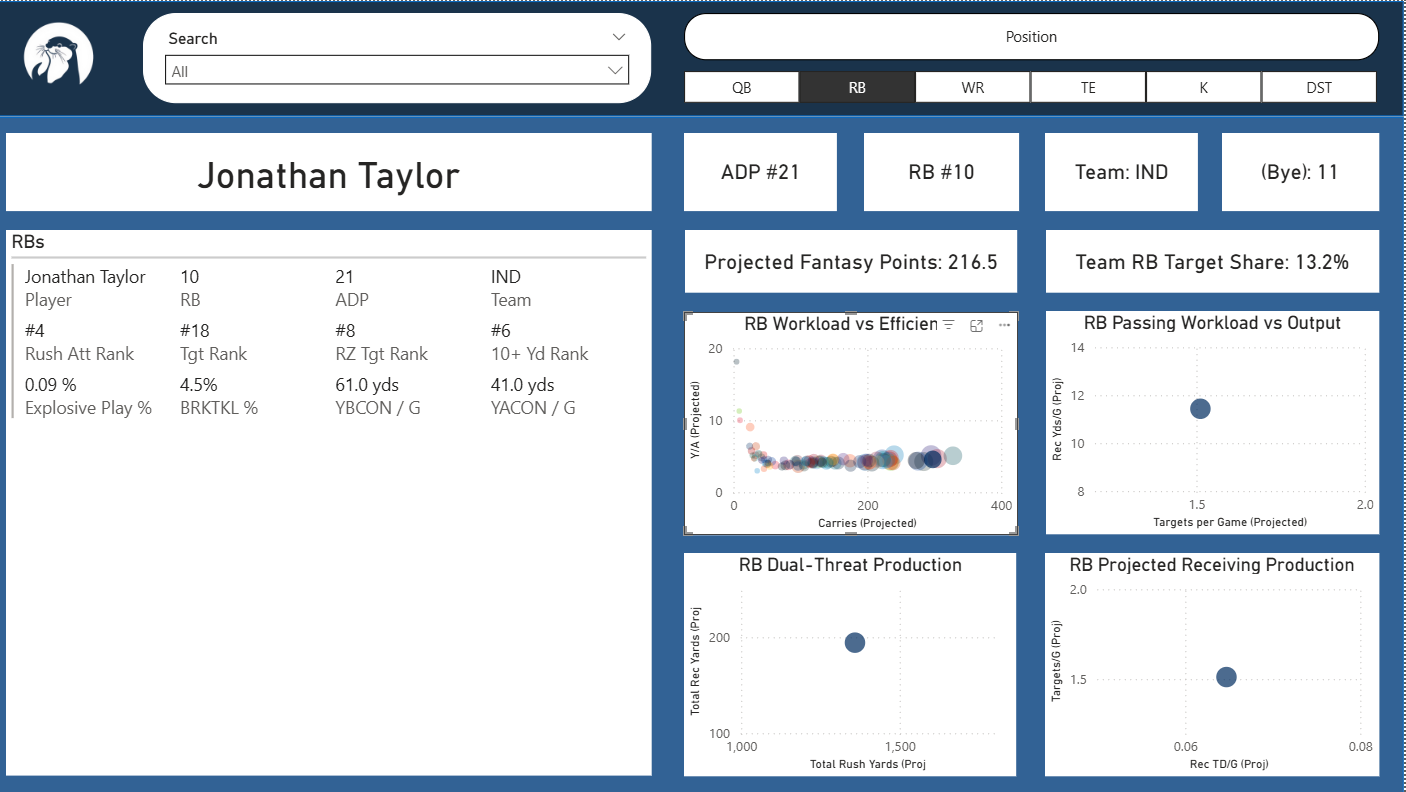

This screenshot's page, from the dashboard's own definition file:
{"tool":"powerbi","page":{"name":"RB","canvas":[1280,720],"ordinal":2},"visuals":[{"type":"group","id":"g1","title":"Group 15","box":[0,0,1279.7,720],"z":0},{"type":"shape","box":[0,0,1279.7,720],"z":0,"group":"g1"},{"type":"shape","box":[141.3,87.8,624,614.9],"z":0,"group":"g4"},{"type":"shape","box":[16.3,5.4,101.4,697.4],"z":1000,"group":"g3"},{"type":"slicer","fields":{"Values":["all_player_data.Player"]},"box":[443.5,21.7,321.8,48],"z":1000,"group":"g6"},{"type":"pageNavigator","box":[26.8,95.1,80.5,594.1],"z":1000,"group":"g5"},{"type":"shape","box":[1039.7,317.9,225,180.2],"z":1000},{"type":"group","id":"g2","title":"Group 13","box":[141.3,0,1053.3,82.4],"z":1500,"group":"g11"},{"type":"group","id":"g3","title":"Group 5","box":[16.3,5.4,101.4,697.4],"z":2000,"group":"g11"},{"type":"group","id":"g4","title":"Group 2","box":[141.3,87.8,1123.3,614.9],"z":2000},{"type":"shape","box":[790.7,87.8,473.7,215.4],"z":2000,"group":"g4"},{"type":"group","id":"g5","title":"Group 1","box":[26.8,95.1,80.5,594.1],"z":2000,"group":"g7"},{"type":"cardVisual","fields":{"Data":["full_rb_data.RB_Bye_Label"]},"box":[829.5,129.4,99,31.7],"z":3000,"group":"g4"},{"type":"shape","box":[1039.7,517,225,180.2],"z":3000},{"type":"cardVisual","fields":{"Data":["full_rb_data.Selected_RB"]},"box":[790.7,87.8,473.7,48],"z":4000,"group":"g4"},{"type":"shape","box":[791.5,317.9,225,180.2],"z":4000},{"type":"group","id":"g6","title":"Group 9","box":[141.3,14.5,624,63.4],"z":5000,"group":"g2"},{"type":"textbox","box":[141.3,14.5,283.4,40.8],"z":5000,"group":"g6"},{"type":"shape","box":[960,279.8,141.5,28.1],"z":5000,"group":"g4"},{"type":"shape","box":[791.5,517.1,225,180.2],"z":5000},{"type":"image","box":[937.4,0,81.5,82.4],"z":5001,"group":"g10"},{"type":"image","box":[1030.7,0,86.9,77.9],"z":5003,"group":"g9"},{"type":"textbox","box":[142,46.2,283.4,31.7],"z":6000,"group":"g6"},{"type":"multiRowCard","title":"RBs","fields":{"Values":["full_rb_data.Player","full_rb_data.RB","full_rb_data.Overall","full_rb_data.MISC FPTS (Projected)","full_rb_data.Rank_Rush_Att_Label","full_rb_data.Rank_Total_Targets_Label","full_rb_data.Rank_Total_RZ_Targets_Label","full_rb_data.Rank_Total_10yd_Plays_Label","full_rb_data.RB_Explosive_Label","full_rb_data.RB_Broken_Tackles_Percentage","full_rb_data.RB_YBCON_Per_Game_Label","full_rb_data.RB_YACON_Per_Game_Label"]},"box":[150.3,96,608,601],"z":6000},{"type":"cardVisual","fields":{"Data":["full_rb_data.RB_Team_Label"]},"box":[790.7,129.4,60.1,31.7],"z":6000,"group":"g4"},{"type":"shape","box":[791.9,146,472.8,31.7],"z":7000,"group":"g4"},{"type":"scatterChart","title":"RB Workload vs Efficiency (Proj)","fields":{"X":["full_rb_data.RUSHING ATT (Projected)"],"Series":["full_rb_data.Team"],"Size":["full_rb_data.RB__Rushing_TD_Per_Game_Proj"],"Y":["full_rb_data.RB_Yards_Per_Attempt"]},"box":[791.5,322.4,225,175],"z":7000},{"type":"image","box":[25.2,5.4,83.7,89.7],"z":8000,"group":"g7"},{"type":"shape","box":[828.2,222.5,142,28],"z":8000,"group":"g4"},{"type":"scatterChart","title":"RB Passing Workload vs Output (Proj)","fields":{"Series":["full_rb_data.Team"],"X":["full_rb_data.RB_Targets_Per_Game_Proj"],"Y":["full_rb_data.RB__Receiving_Yards_Per_Game_Proj"],"Size":["full_rb_data.RB__Receiving_TD_Per_Game_Proj"]},"box":[1039.7,322,225,175],"z":8000},{"type":"shape","box":[1092.8,222.5,142,28],"z":9000,"group":"g4"},{"type":"scatterChart","title":"RB Dual-Threat Production (Proj)","fields":{"Series":["full_rb_data.Team"],"X":["full_rb_data.RUSHING YDS (Projected)"],"Y":["full_rb_data.RECEIVING YDS (Projected)"],"Size":["full_rb_data.RB_Total_TDs_Per_Game_Proj"]},"box":[791.5,522.6,225,175],"z":9000},{"type":"scatterChart","title":"RB Receiving Production (Proj)","fields":{"Series":["full_rb_data.Team"],"X":["full_rb_data.RB__Receiving_TD_Per_Game_Proj"],"Y":["full_rb_data.RB_Targets_Per_Game_Proj"],"Size":["full_rb_data.RB__Receiving_Yards_Per_Game_Proj"]},"box":[1039,522,225,175],"z":10000},{"type":"shape","box":[1093.2,9.1,101.4,64.3],"z":11000,"group":"g8"},{"type":"card","fields":{"Values":["full_rb_data.RB_Target_Share_Label"]},"box":[1082.3,96,164.8,65.2],"z":11000},{"type":"group","id":"g7","title":"Group 4","box":[25.2,5.4,83.7,683.8],"z":11001,"group":"g3"},{"type":"group","id":"g8","title":"Group 10","box":[1093.2,9.1,101.4,64.3],"z":11001,"group":"g9"},{"type":"group","id":"g9","title":"Group 11","box":[1030.7,0,163.9,77.9],"z":11002,"group":"g10"},{"type":"group","id":"g10","title":"Group 12","box":[937.4,0,257.2,82.4],"z":11003,"group":"g2"},{"type":"group","id":"g11","title":"Group 14","box":[16.3,0,1178.3,702.8],"z":11005,"group":"g1"},{"type":"image","box":[1164.7,2.7,95.1,77.9],"z":12000},{"type":"card","fields":{"Values":["full_rb_data.Player_RB__Rank_Label"]},"box":[790,166,209,70.6],"z":13000},{"type":"card","fields":{"Values":["full_rb_data.RB_ADP_Label"]},"box":[1093.1,166,142,70.6],"z":14000},{"type":"card","fields":{"Values":["full_rb_data.RB_Fantasy_Point_Label"]},"box":[927,225,204,66],"z":15000}]}

Visuals, with their boxes in screenshot pixels (x1, y1, x2, y2), scaled from the page's 1280x720 canvas onto the 1406x792 screenshot:
"Group 15" group: (left=0, top=0, right=1405, bottom=791)
shape: (left=0, top=0, right=1405, bottom=791)
shape: (left=155, top=97, right=841, bottom=773)
shape: (left=18, top=6, right=129, bottom=773)
slicer - all_player_data.Player: (left=487, top=24, right=841, bottom=77)
pageNavigator: (left=29, top=105, right=118, bottom=758)
shape: (left=1142, top=350, right=1389, bottom=548)
"Group 13" group: (left=155, top=0, right=1312, bottom=91)
"Group 5" group: (left=18, top=6, right=129, bottom=773)
"Group 2" group: (left=155, top=97, right=1389, bottom=773)
shape: (left=869, top=97, right=1389, bottom=334)
"Group 1" group: (left=29, top=105, right=118, bottom=758)
cardVisual - full_rb_data.RB_Bye_Label: (left=911, top=142, right=1020, bottom=177)
shape: (left=1142, top=569, right=1389, bottom=767)
cardVisual - full_rb_data.Selected_RB: (left=869, top=97, right=1389, bottom=149)
shape: (left=869, top=350, right=1117, bottom=548)
"Group 9" group: (left=155, top=16, right=841, bottom=86)
textbox: (left=155, top=16, right=467, bottom=61)
shape: (left=1054, top=308, right=1210, bottom=339)
shape: (left=869, top=569, right=1117, bottom=767)
image: (left=1030, top=0, right=1119, bottom=91)
image: (left=1132, top=0, right=1228, bottom=86)
textbox: (left=156, top=51, right=467, bottom=86)
"RBs" multiRowCard: (left=165, top=106, right=833, bottom=767)
cardVisual - full_rb_data.RB_Team_Label: (left=869, top=142, right=935, bottom=177)
shape: (left=870, top=161, right=1389, bottom=195)
"RB Workload vs Efficiency (Proj)" scatterChart: (left=869, top=355, right=1117, bottom=547)
image: (left=28, top=6, right=120, bottom=105)
shape: (left=910, top=245, right=1066, bottom=276)
"RB Passing Workload vs Output (Proj)" scatterChart: (left=1142, top=354, right=1389, bottom=547)
shape: (left=1200, top=245, right=1356, bottom=276)
"RB Dual-Threat Production (Proj)" scatterChart: (left=869, top=575, right=1117, bottom=767)
"RB Receiving Production (Proj)" scatterChart: (left=1141, top=574, right=1388, bottom=767)
shape: (left=1201, top=10, right=1312, bottom=81)
card - full_rb_data.RB_Target_Share_Label: (left=1189, top=106, right=1370, bottom=177)
"Group 4" group: (left=28, top=6, right=120, bottom=758)
"Group 10" group: (left=1201, top=10, right=1312, bottom=81)
"Group 11" group: (left=1132, top=0, right=1312, bottom=86)
"Group 12" group: (left=1030, top=0, right=1312, bottom=91)
"Group 14" group: (left=18, top=0, right=1312, bottom=773)
image: (left=1279, top=3, right=1384, bottom=89)
card - full_rb_data.Player_RB__Rank_Label: (left=868, top=183, right=1097, bottom=260)
card - full_rb_data.RB_ADP_Label: (left=1201, top=183, right=1357, bottom=260)
card - full_rb_data.RB_Fantasy_Point_Label: (left=1018, top=248, right=1242, bottom=320)
